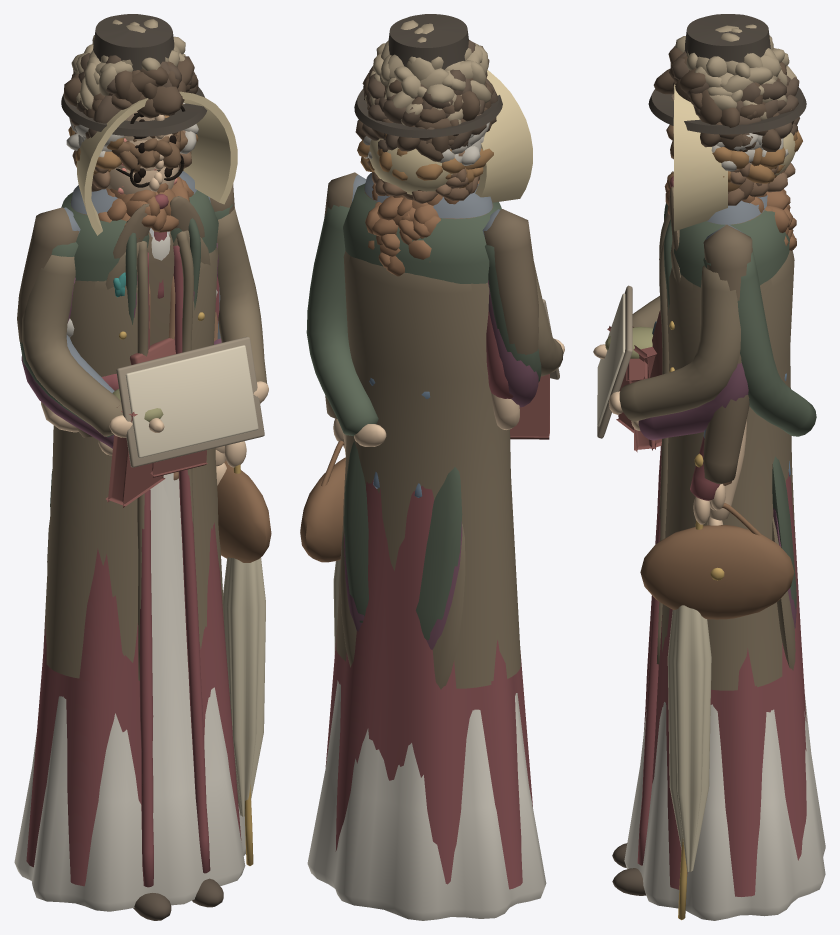
Rendered from figures-BAzRhUkz.glb.
3 views of the same model, side by side, from view 1: azimuth 30°, elevation 25°; view 2: azimuth 150°, elevation 25°; view 3: azimuth 270°, elevation 25° (orthographic).
Visible parts, largest first — view 1: figure-noakes, figure-croom, figure-thomasina, figure-bernard, figure-septimus, figure-valentine, figure-chater, figure-hannah; view 2: figure-noakes, figure-croom, figure-thomasina, figure-septimus, figure-bernard, figure-valentine, figure-chater, figure-hannah; view 3: figure-noakes, figure-croom, figure-thomasina, figure-bernard, figure-septimus, figure-chater, figure-valentine, figure-hannah.
Boxes of the visible parts, box(x1,y1,x2,y2) form: figure-noakes: box(22, 14, 268, 680); figure-croom: box(26, 91, 265, 887); figure-thomasina: box(14, 176, 245, 920); figure-bernard: box(17, 19, 271, 562); figure-septimus: box(19, 56, 232, 509); figure-valentine: box(64, 53, 220, 432); figure-chater: box(21, 104, 221, 477); figure-hannah: box(72, 130, 224, 480); figure-noakes: box(336, 14, 564, 689); figure-croom: box(325, 70, 532, 889); figure-thomasina: box(307, 180, 546, 920); figure-septimus: box(306, 45, 549, 640); figure-bernard: box(300, 20, 538, 562); figure-valentine: box(352, 40, 500, 237); figure-chater: box(344, 134, 538, 649); figure-hannah: box(338, 151, 480, 424); figure-noakes: box(597, 14, 806, 690); figure-croom: box(637, 84, 806, 920); figure-thomasina: box(612, 172, 825, 920); figure-bernard: box(640, 24, 796, 619); figure-septimus: box(607, 45, 816, 615); figure-chater: box(626, 130, 802, 628); figure-valentine: box(593, 51, 799, 438); figure-hannah: box(652, 159, 795, 510).
Size of the model in its own units: 0.5178 by 1.85 by 0.4545.
